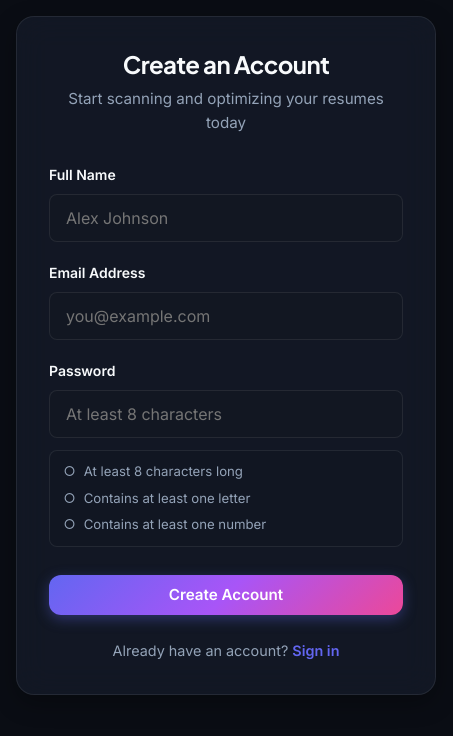
Client Authentication Flow › Register Page › displays error banner when registration fails with conflict
Type "Duplicate Jane" into the field labelled "Full Name" at (226, 218), box [49,194,403,242]
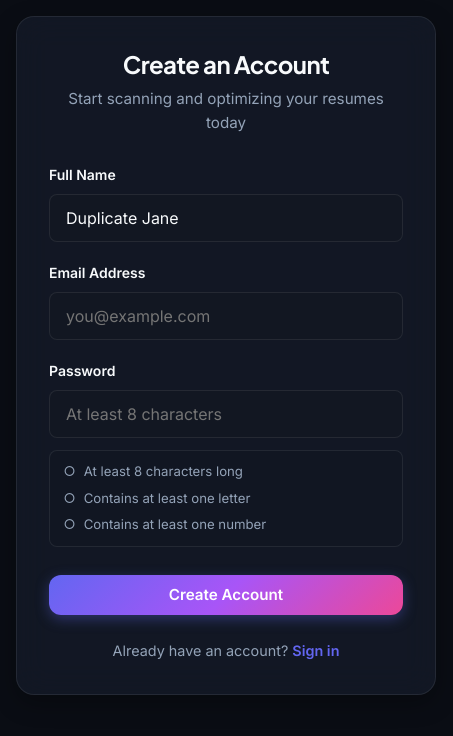
Type "jane@example.com" into the field labelled "Email Address" at (226, 316), box [49,292,403,340]
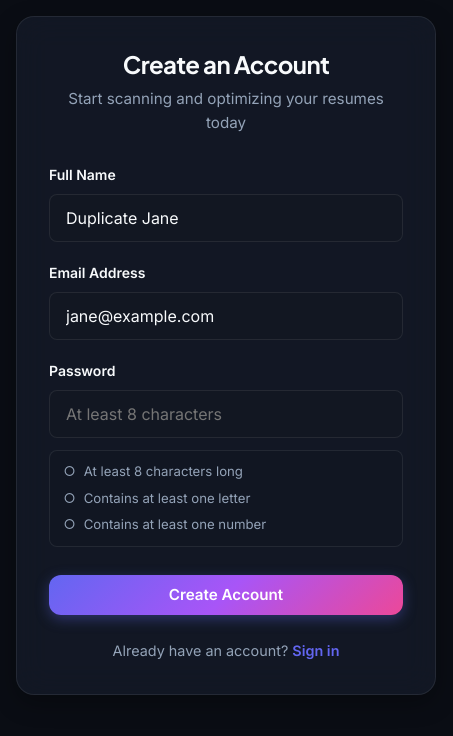
Type "ValidPass123" into the password field labelled "Password" at (226, 414), box [49,390,403,438]
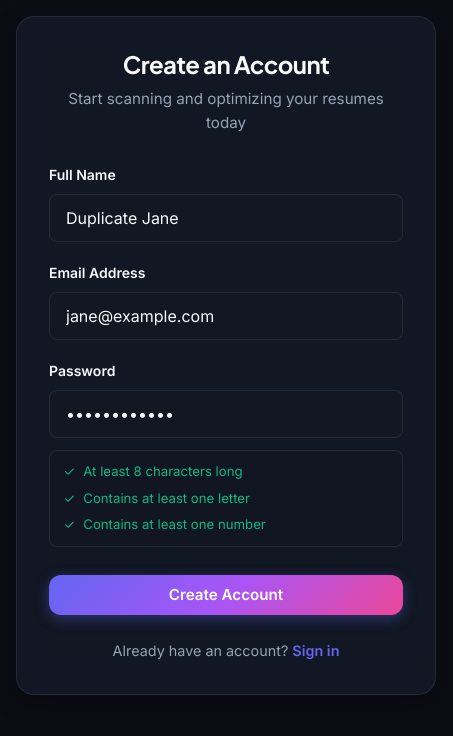
Click the button "Create Account" at (226, 595), box [49,575,403,615]
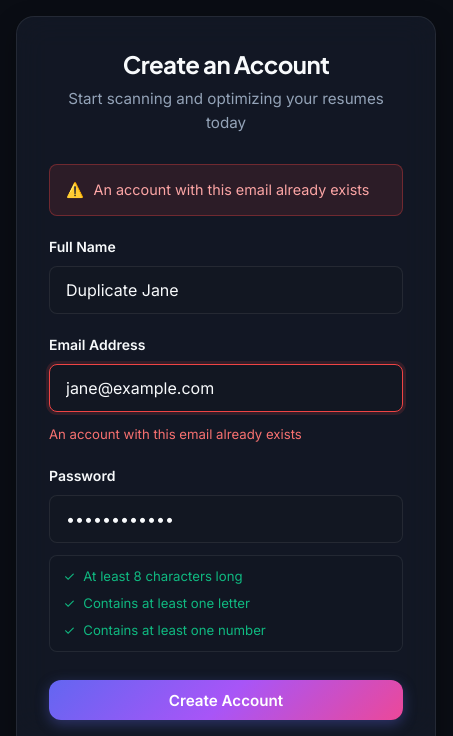
Check: the message shows "An account with this email already exists", box [94,181,370,198]
